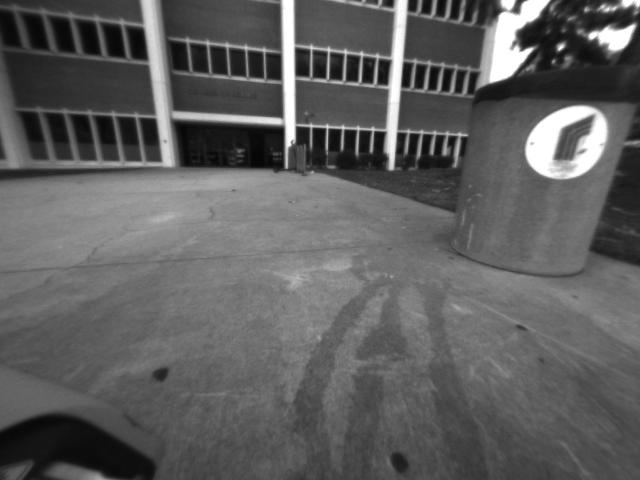trashcan: (452, 44, 640, 297)
